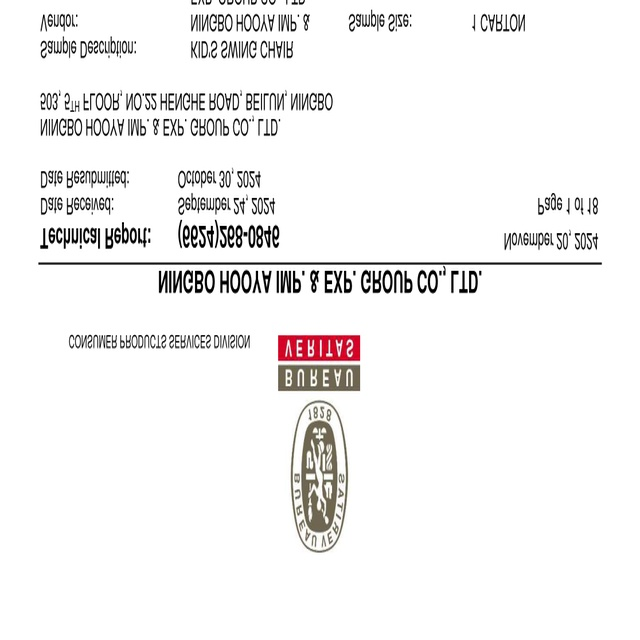bureau_veritas: (276, 331, 364, 554)
